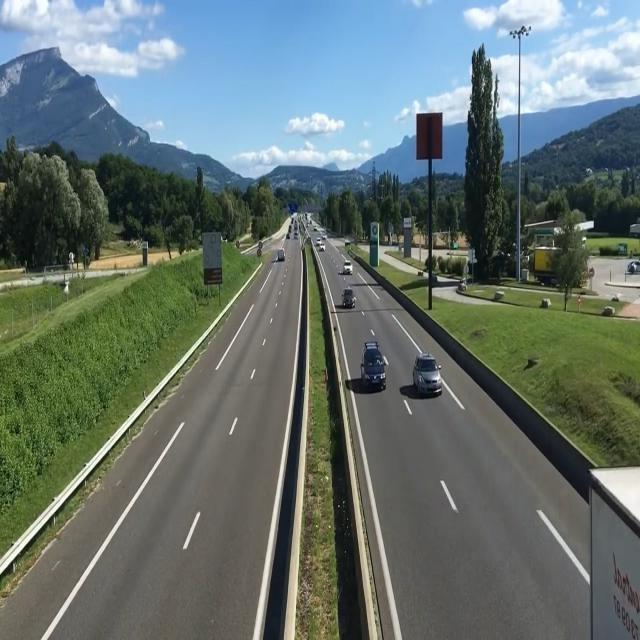Car: (359, 340, 387, 392), (412, 353, 444, 396), (341, 287, 356, 309), (626, 260, 640, 274), (342, 260, 354, 275), (316, 237, 322, 246), (319, 243, 325, 251)
Truck: (585, 463, 640, 640)
Van: (277, 247, 286, 263)
